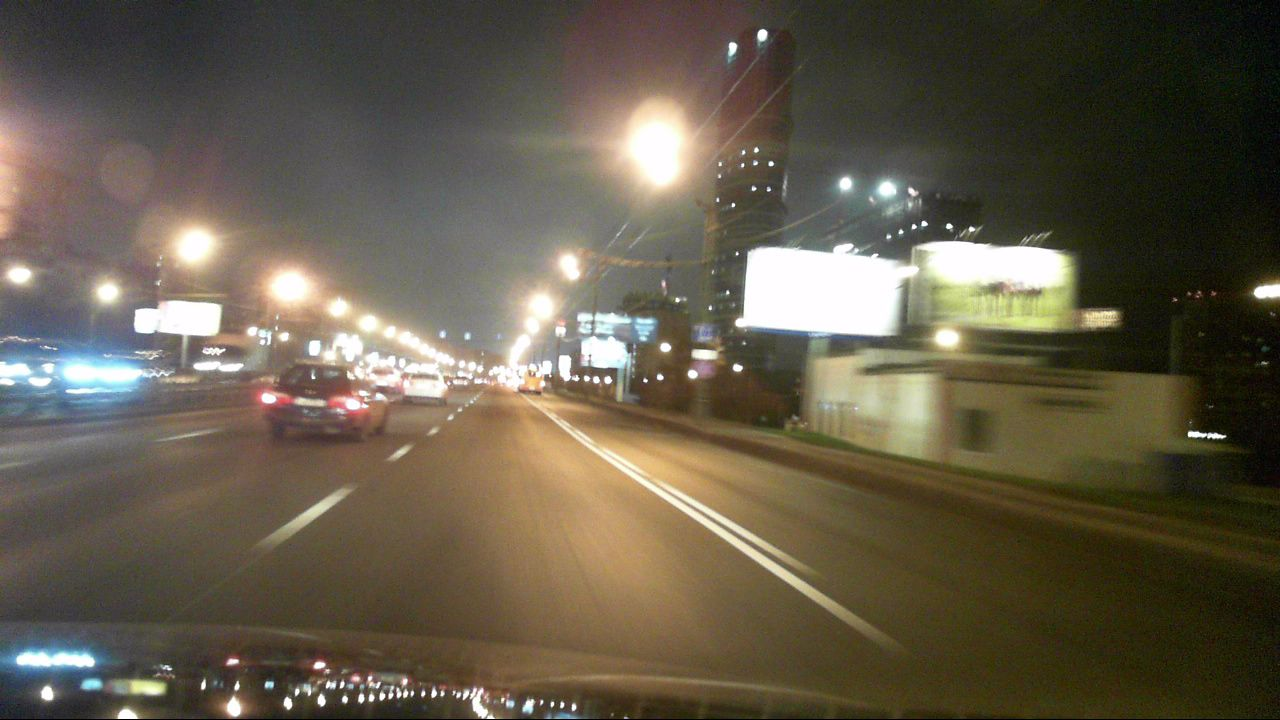No Parking: (697, 362, 715, 379)
